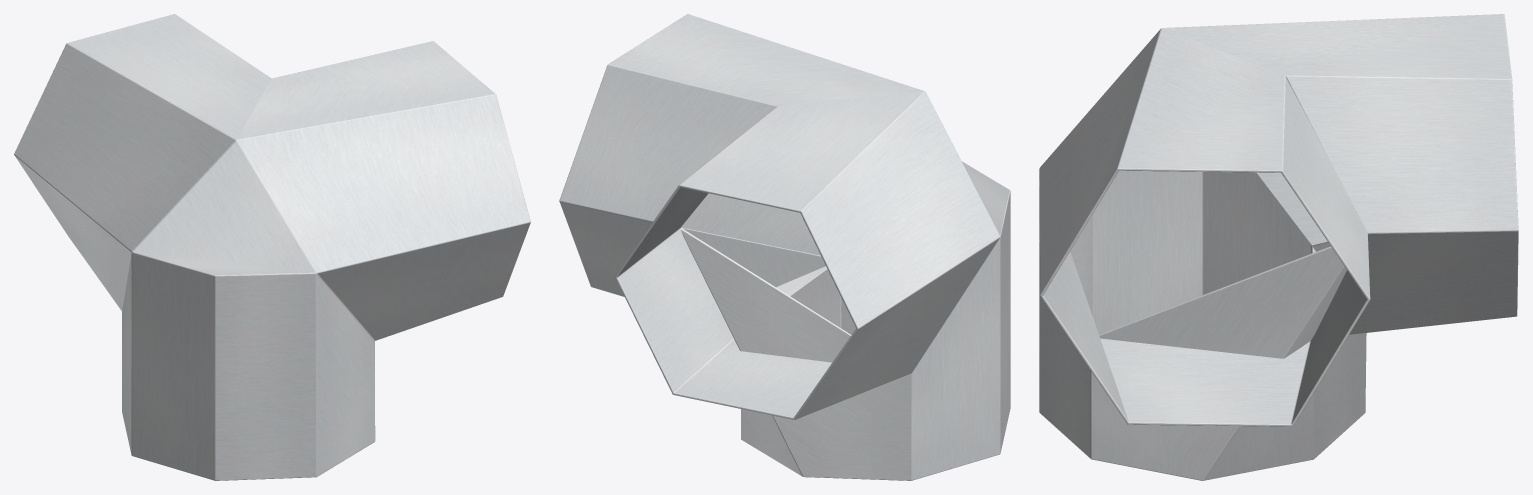
Rendered from 3TConnectorV1.2.glb.
3 renders of one model, left to right at view 1: azimuth 30°, elevation 25°; view 2: azimuth 150°, elevation 25°; view 3: azimuth 270°, elevation 25°, orthographic. The views are drawn at different scales.
Parts seen in each view (by area): view 1: 3TConnector; view 2: 3TConnector; view 3: 3TConnector.
Boxes of the visible parts, left/top/right/bottom form: 3TConnector: left=14, top=14, right=530, bottom=480; 3TConnector: left=559, top=14, right=1010, bottom=480; 3TConnector: left=1039, top=14, right=1518, bottom=480.
Size of the model in its own units: 2.9 by 2.48 by 2.9.
Materials: 1 (1 with a texture image).
